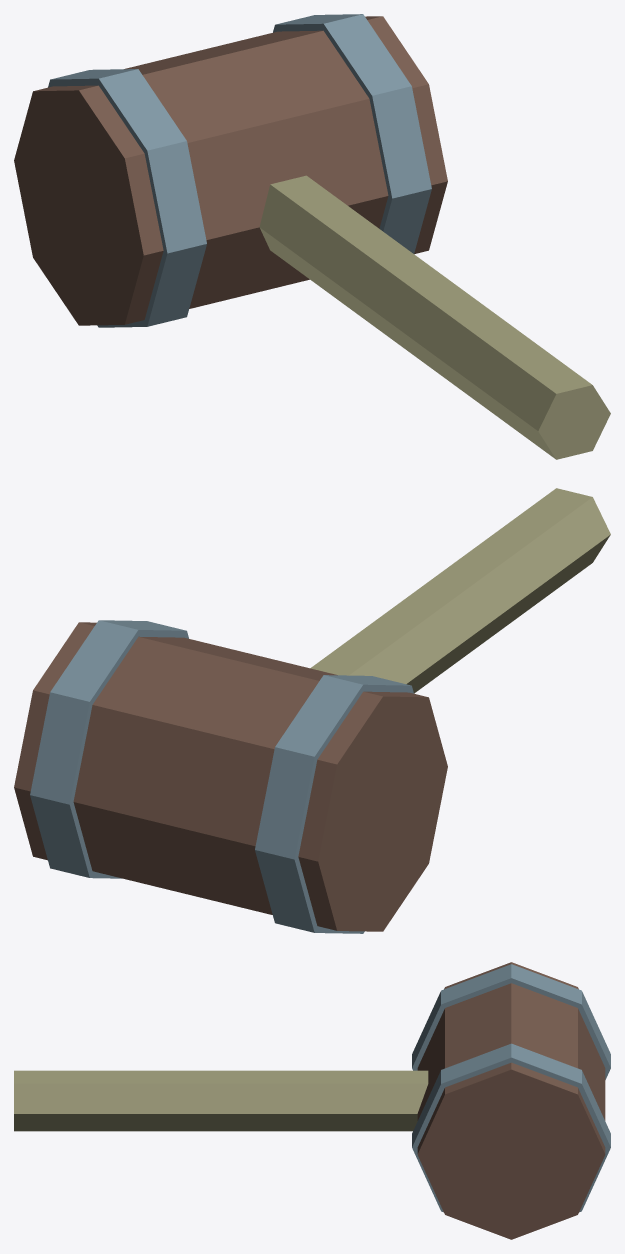
Rendered from mallet.glb.
3 renders of one model, top to bottom at view 1: azimuth 30°, elevation 25°; view 2: azimuth 150°, elevation 25°; view 3: azimuth 270°, elevation 25°, orthographic. The views are drawn at different scales.
Parts seen in each view (by area): view 1: Head, Handle, BandL, BandR; view 2: Head, Handle, BandL, BandR; view 3: Head, Handle, BandR, BandL.
Part boxes in pixels (x1,y1,x2,y2): Head: [14, 16, 447, 325]; Handle: [259, 175, 610, 459]; BandL: [48, 69, 206, 327]; BandR: [273, 14, 431, 253]; Head: [14, 622, 447, 931]; Handle: [310, 488, 610, 693]; BandL: [255, 675, 413, 933]; BandR: [30, 620, 188, 878]; Head: [417, 962, 605, 1239]; Handle: [14, 1070, 428, 1131]; BandR: [412, 1043, 610, 1212]; BandL: [412, 964, 610, 1079].
Bounding box in the file's own units: 0.46 × 0.36 × 1.08.
